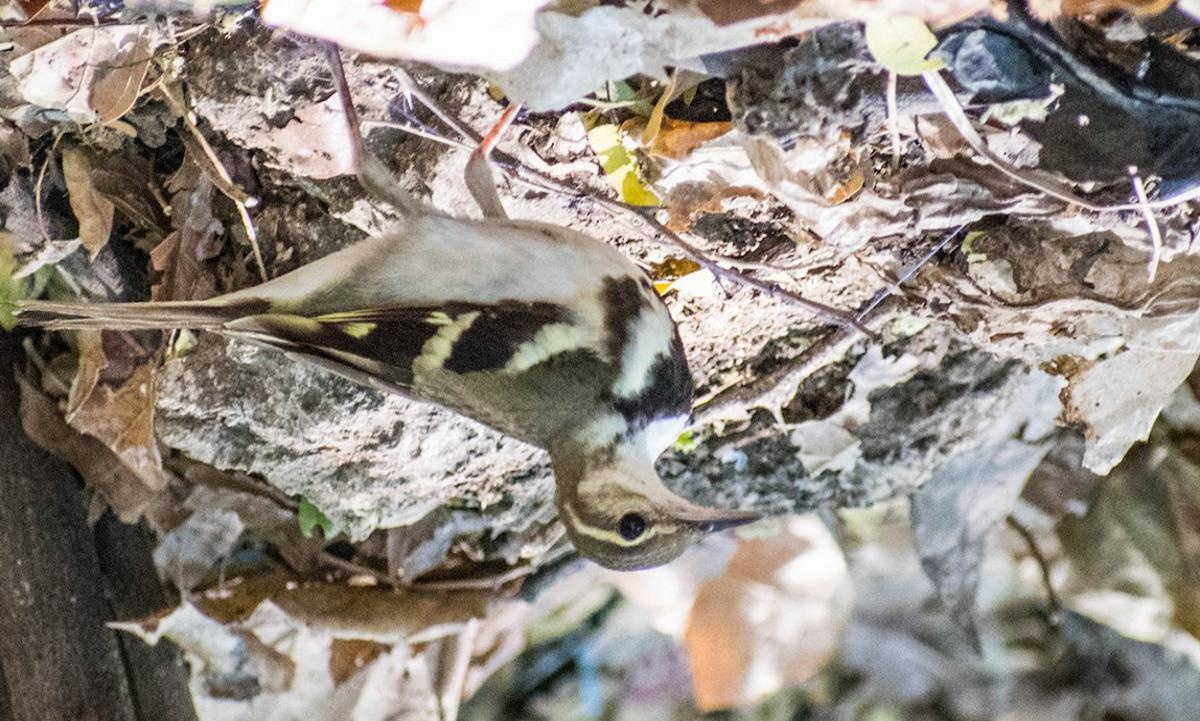wagtail: (74, 150, 804, 587)
